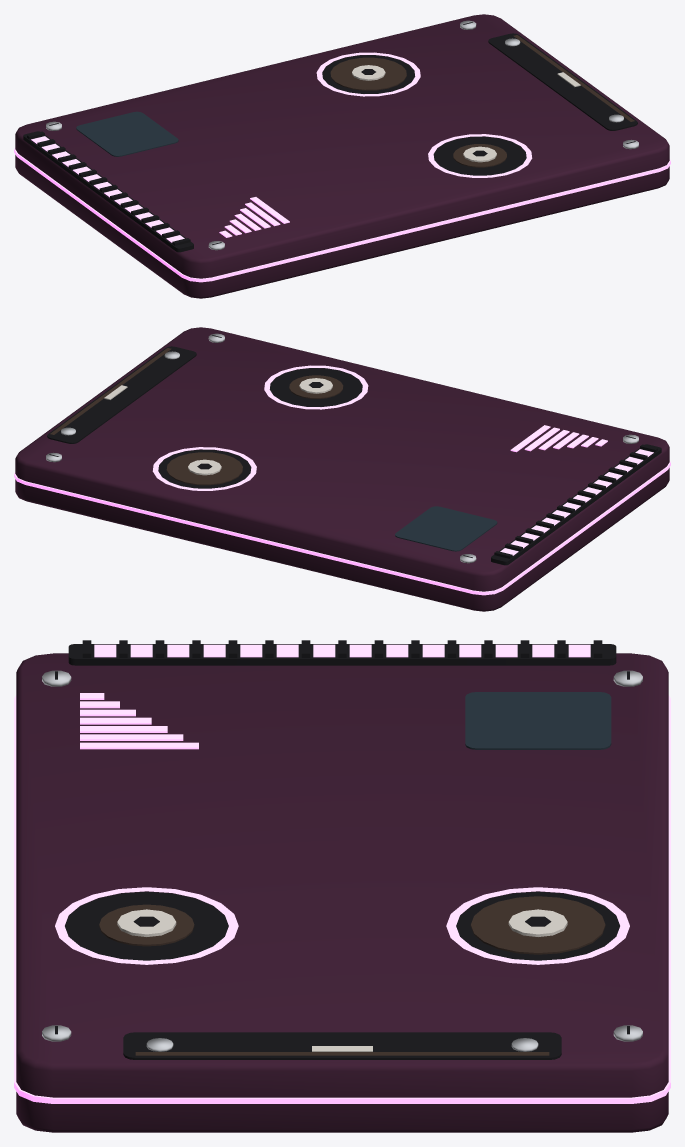
File: data_cassette.glb
The picture shows the model from 3 angles, top to bottom: view 1: azimuth 30°, elevation 25°; view 2: azimuth 150°, elevation 25°; view 3: azimuth 270°, elevation 25°; orthographic projection. The views are drawn at different scales.
Parts seen in each view (by area): view 1: Koerper, Dunkel, Kern, Glanz, Saum, Hell, Metall; view 2: Koerper, Dunkel, Kern, Glanz, Saum, Hell, Metall; view 3: Koerper, Dunkel, Kern, Glanz, Saum, Hell, Metall.
Boxes of the visible parts, x1,y1,x2,y2 form: Koerper: (15,14,669,298); Dunkel: (23,22,637,252); Kern: (14,136,670,282); Glanz: (76,111,178,156); Saum: (316,52,532,177); Hell: (352,65,580,162); Metall: (46,20,638,250); Koerper: (15,327,669,611); Dunkel: (47,335,661,565); Kern: (14,425,670,595); Glanz: (395,506,497,551); Saum: (152,365,368,490); Hell: (104,378,332,475); Metall: (46,333,638,563); Koerper: (16,653,668,1132); Dunkel: (55,640,629,1059); Kern: (14,644,670,1103); Glanz: (465,692,611,749); Saum: (55,887,629,964); Hell: (117,909,567,1051); Metall: (42,670,642,1051).
Size of the model in its own units: 1.62 by 0.146 by 1.08.
